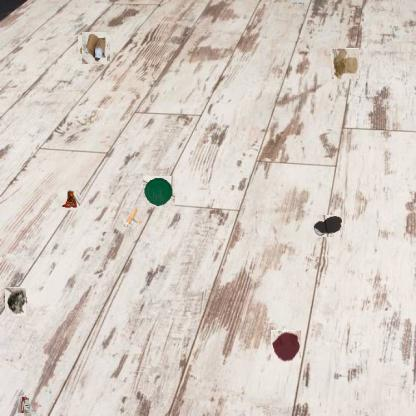dirty: (143, 176, 175, 207), (79, 34, 109, 63), (331, 48, 359, 79), (3, 289, 28, 315), (58, 190, 80, 210), (16, 396, 38, 416), (122, 208, 140, 226)
liquid: (271, 330, 301, 363), (313, 215, 343, 237)
